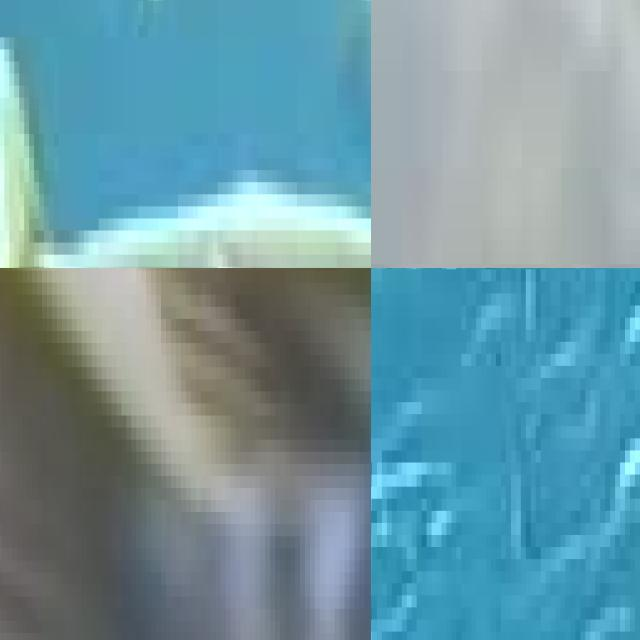fish: (0, 1, 371, 268), (371, 0, 640, 268)
